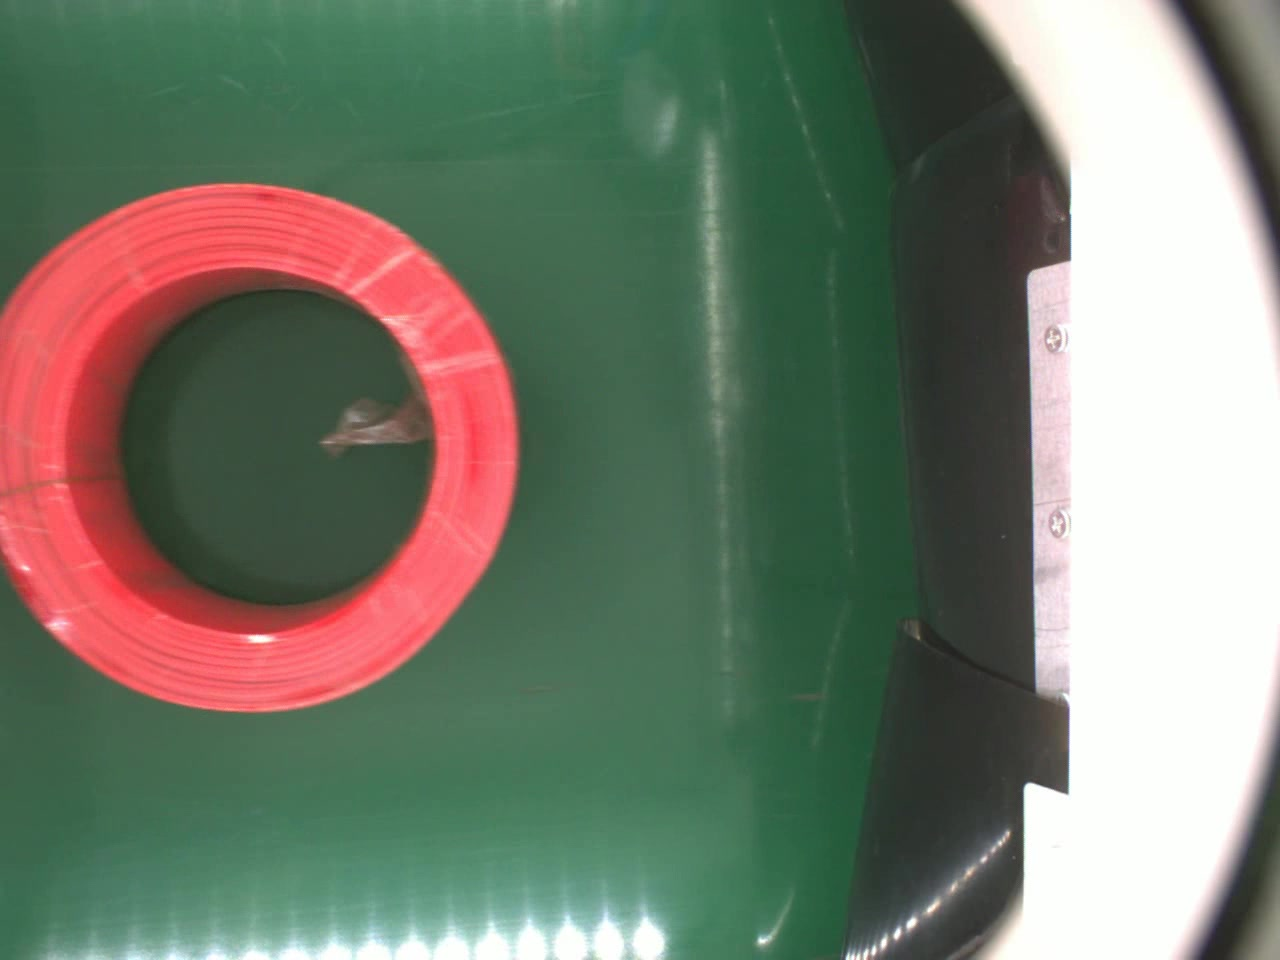red: (0, 179, 524, 718)
